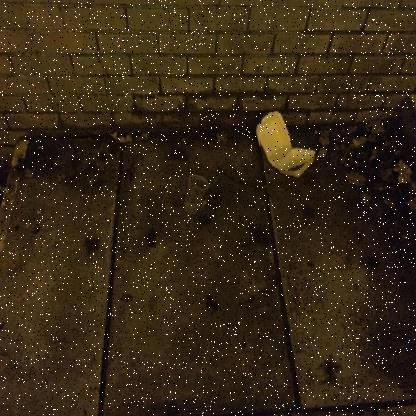foam: (256, 110, 316, 178)
plastic: (183, 175, 209, 215)
